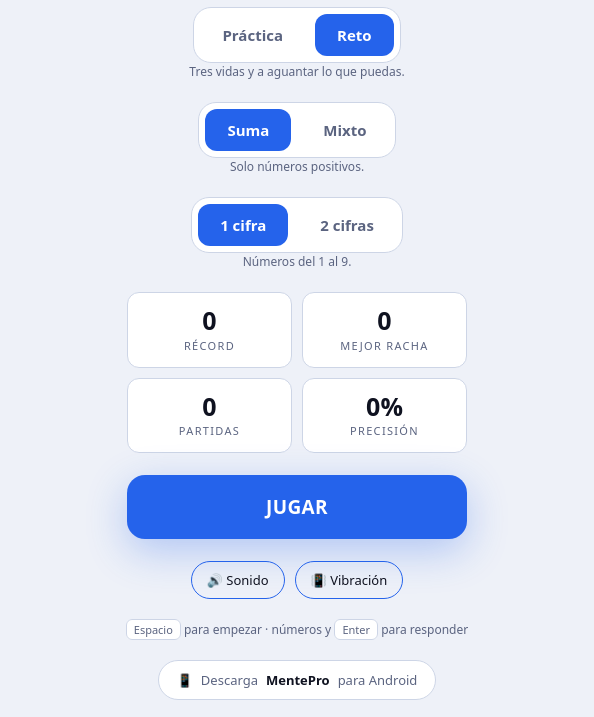
Test: MenteRush end to end › una respuesta errónea muestra el resultado correcto y quita una vida
(page scrolled)
Click the button "JUGAR".
click(297, 507)  # box [127,475,467,539]
Wait 7200 ms
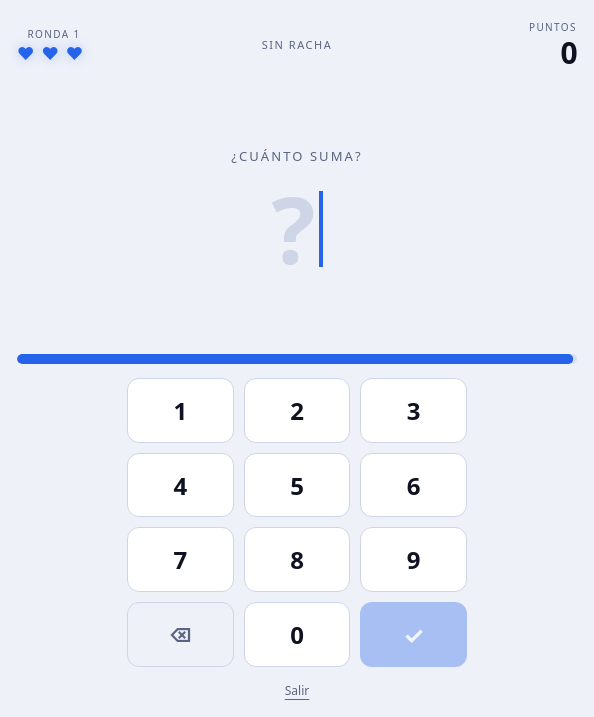
Press 1
Press 0
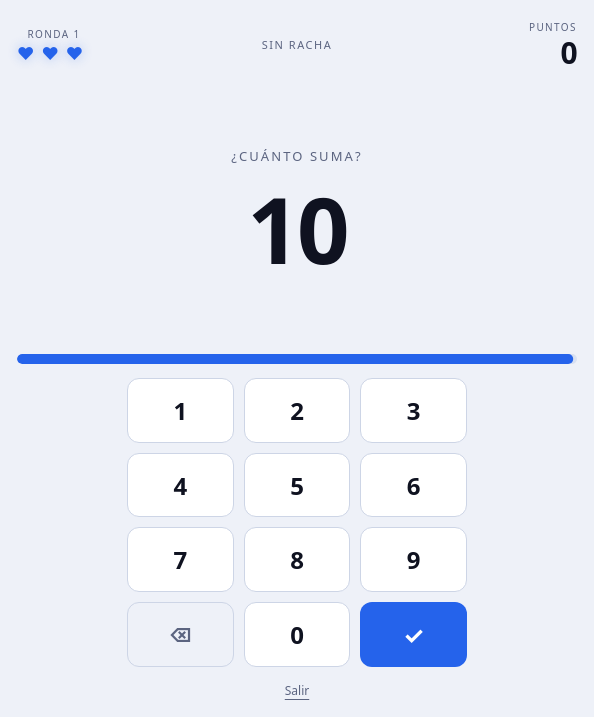
Press Enter
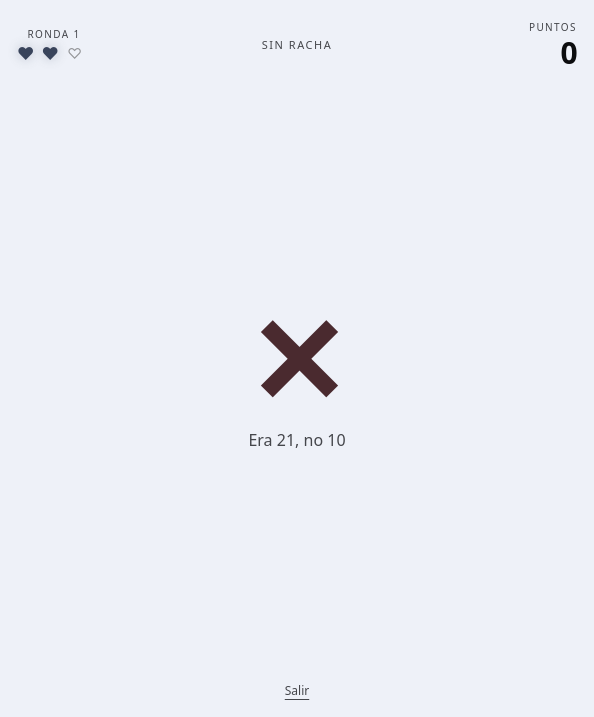
Expected: the text "✕" is shown, [247,298,347,418]
